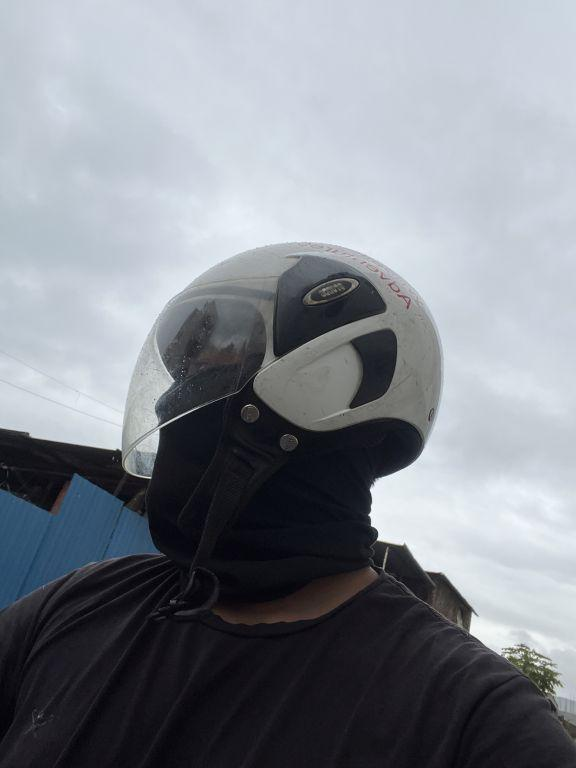helmet: (100, 227, 453, 535)
